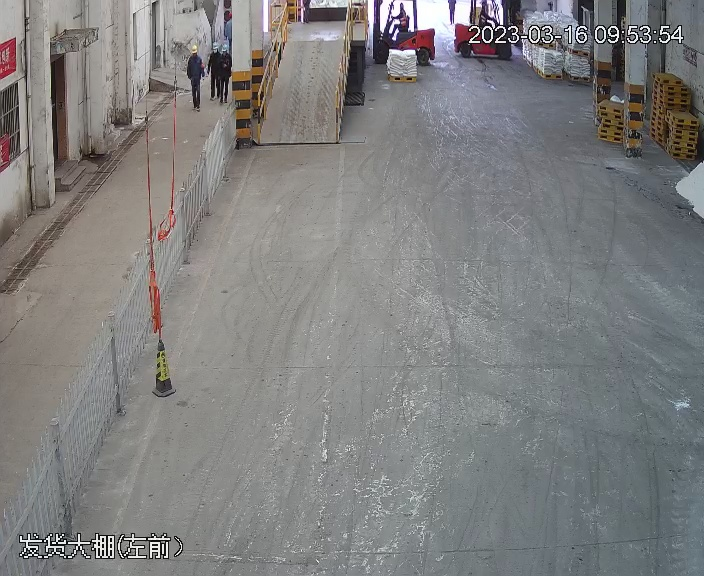head: (189, 44, 202, 65), (221, 44, 232, 61), (211, 42, 221, 60)
helmet: (190, 43, 199, 52), (221, 44, 229, 52), (213, 42, 219, 50)
people: (182, 41, 207, 112), (387, 1, 410, 38), (208, 41, 221, 101), (220, 43, 232, 104)
